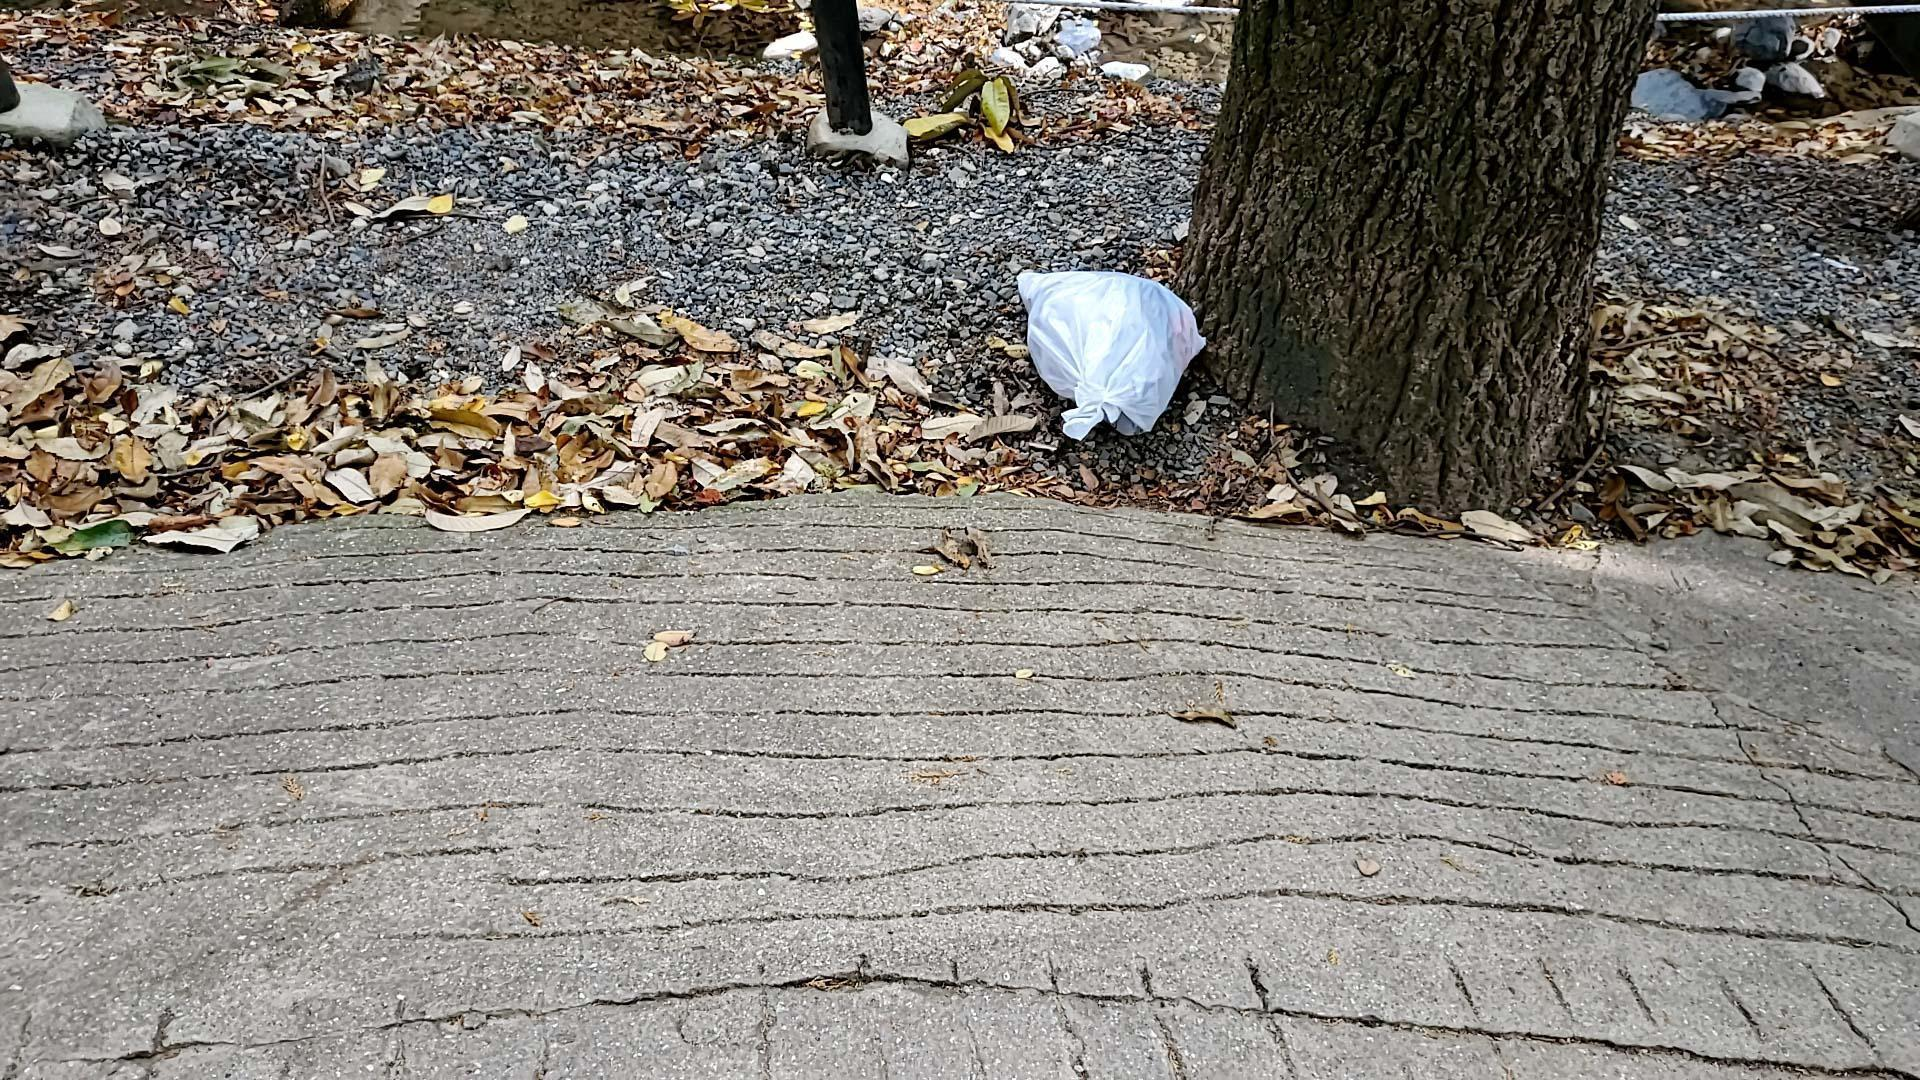white_bag: (1009, 261, 1213, 458)
